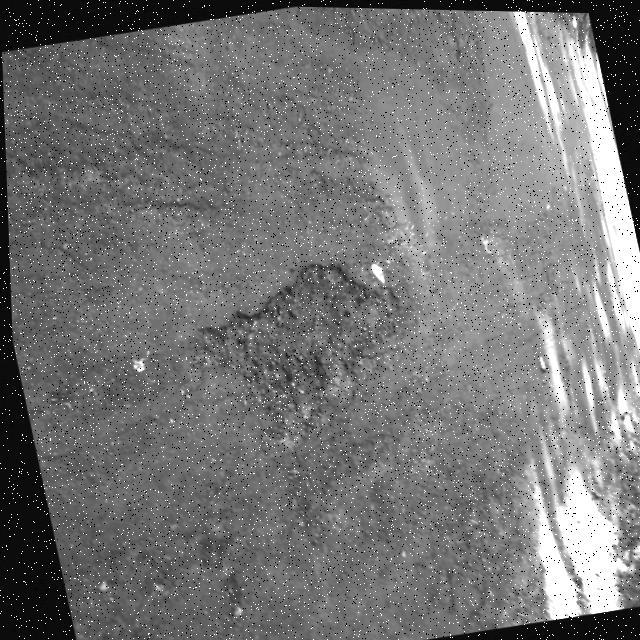pothole: (178, 245, 424, 464)
